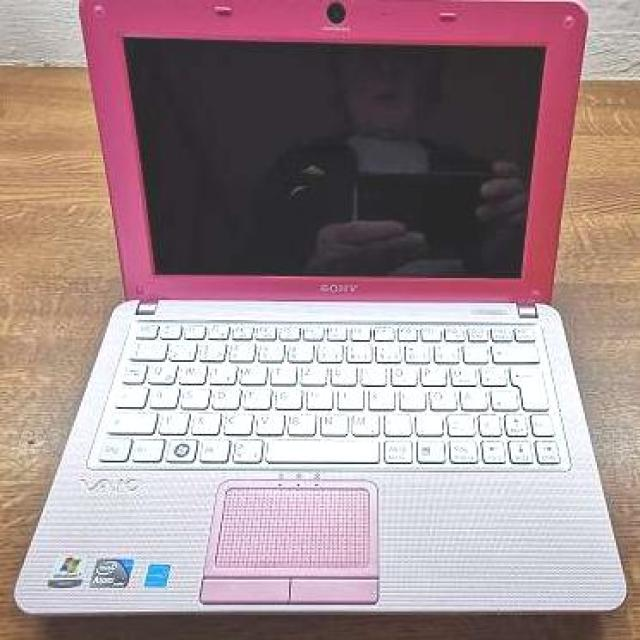0: (401, 339, 427, 359)
1: (136, 337, 163, 359)
2: (165, 335, 193, 357)
3: (194, 337, 222, 357)
4: (226, 337, 252, 359)
5: (255, 337, 281, 357)
6: (282, 339, 310, 359)
7: (313, 339, 341, 359)
8: (343, 339, 369, 359)
9: (372, 339, 398, 359)
a: (150, 382, 177, 405)
accent: (460, 339, 486, 359)
ae: (456, 384, 483, 406)
alt-left: (227, 434, 258, 459)
altgr-right: (382, 439, 411, 462)
b: (286, 410, 315, 434)
c: (222, 410, 251, 434)
comma: (384, 410, 411, 434)
d: (207, 382, 236, 405)
del: (487, 339, 535, 359)
e: (205, 357, 232, 380)
enter: (504, 364, 545, 406)
f: (238, 384, 267, 406)
g: (269, 384, 298, 406)
h: (301, 384, 329, 406)
hash: (487, 384, 514, 407)
i: (356, 359, 382, 382)
j: (332, 384, 360, 406)
k: (363, 384, 391, 406)
keyboard: (81, 313, 573, 474)
l: (394, 384, 421, 406)
m: (350, 410, 379, 434)
minus: (446, 410, 475, 434)
n: (319, 410, 348, 434)
o: (385, 360, 413, 382)
oe: (425, 384, 452, 406)
p: (416, 360, 442, 382)
plus: (477, 362, 503, 382)
point: (415, 412, 442, 434)
q: (147, 359, 176, 382)
r: (236, 359, 263, 381)
s: (177, 382, 205, 405)
shift-left: (100, 404, 153, 431)
shift-lock: (117, 384, 146, 407)
shift-right: (478, 412, 501, 436)
space: (265, 438, 377, 463)
ss: (432, 339, 456, 359)
strg-left: (97, 434, 128, 459)
strg-right: (448, 439, 477, 462)
t: (265, 359, 292, 381)
tab: (121, 359, 145, 382)
u: (325, 360, 353, 382)
ue: (446, 360, 473, 382)
v: (255, 410, 284, 434)
w: (174, 357, 203, 380)
x: (186, 407, 215, 431)
y: (153, 407, 184, 431)
z: (295, 360, 324, 382)
